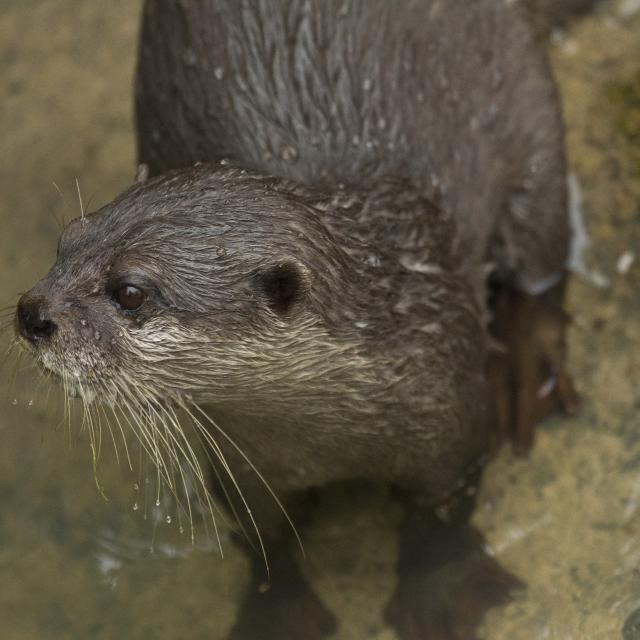otter: (18, 165, 475, 440)
